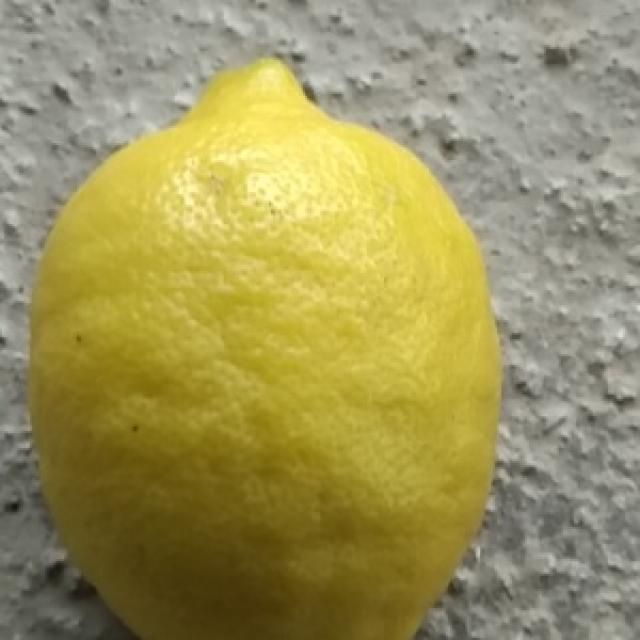Ripe: (28, 51, 508, 640)
